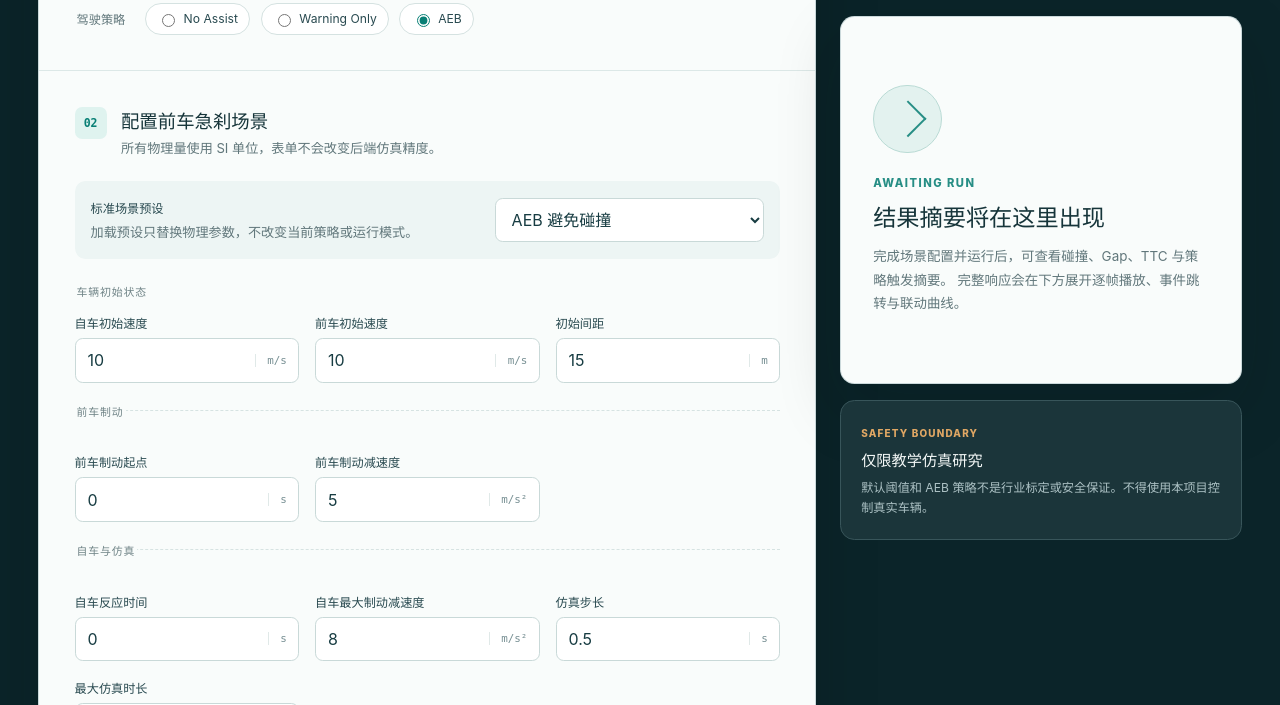
Dashboard configuration workflow › prevents duplicate submission while a request is pending and resets defaults
(page scrolled)
Replace the text in the number field labelled "初始间距" with "22". click: (653, 360)
box: x1=556 y1=339 x2=749 y2=382
(page scrolled)
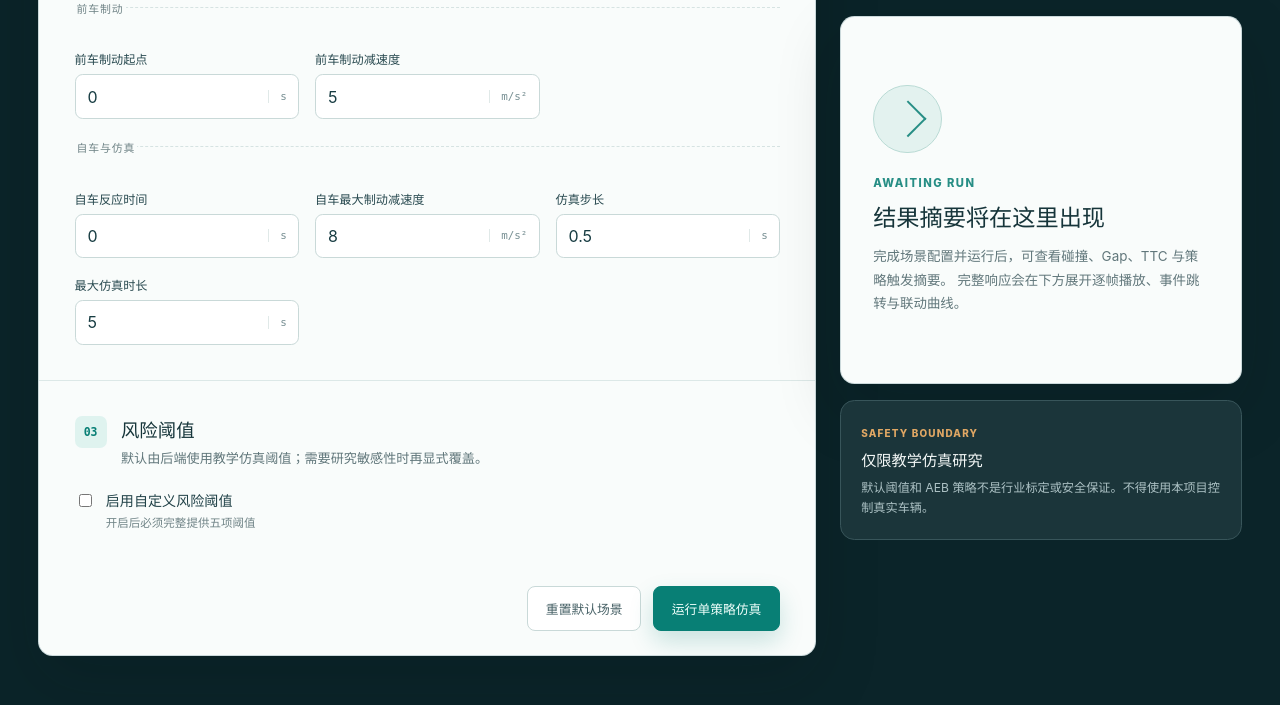
Click the button "运行单策略仿真". click: (717, 609)
box: x1=653 y1=586 x2=780 y2=631
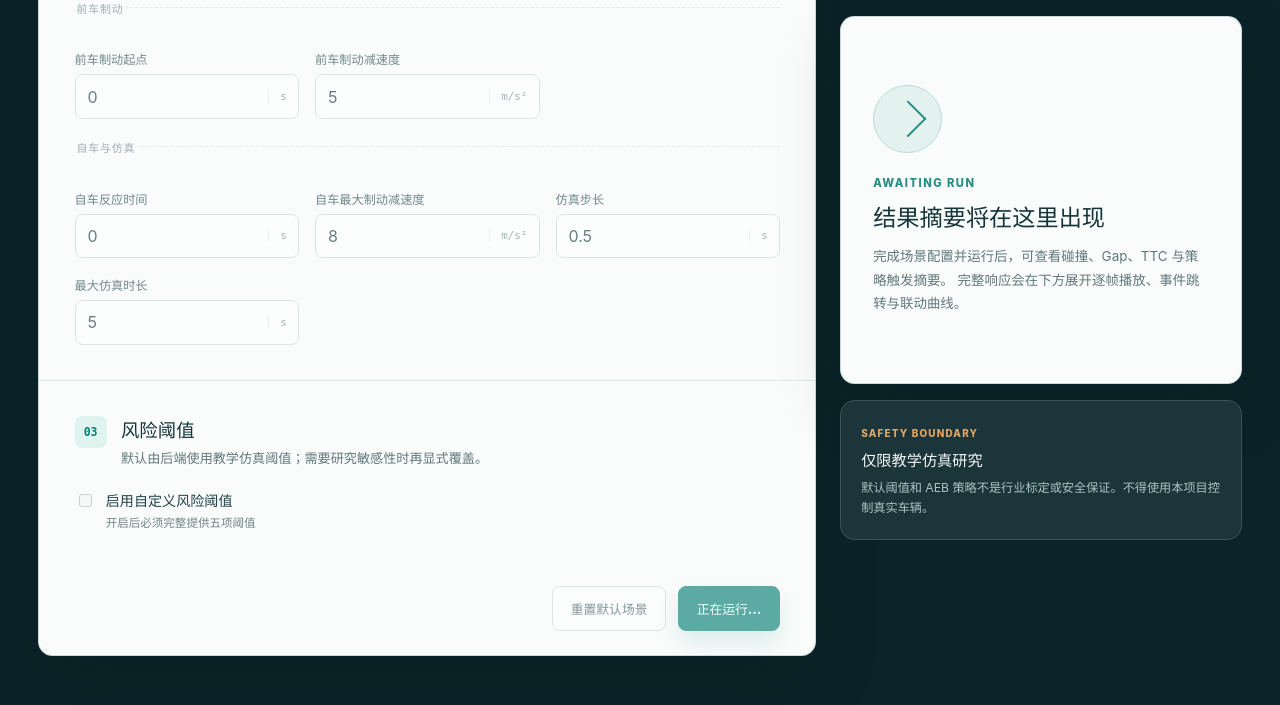
Expected: the button "正在运行…" is disabled
Click the button "正在运行…". click: (729, 609)
box: x1=678 y1=586 x2=780 y2=631
(page scrolled)
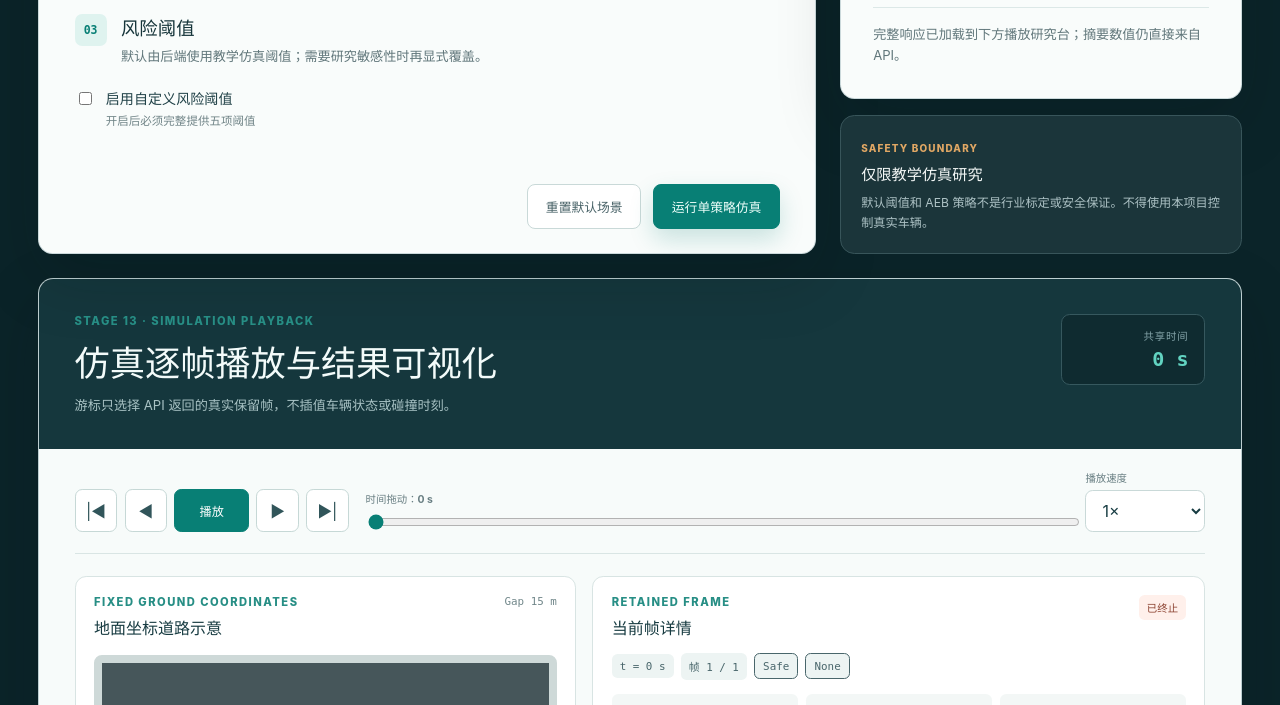
Click the button "重置默认场景". click: (584, 207)
box: x1=527 y1=184 x2=641 y2=229
(page scrolled)
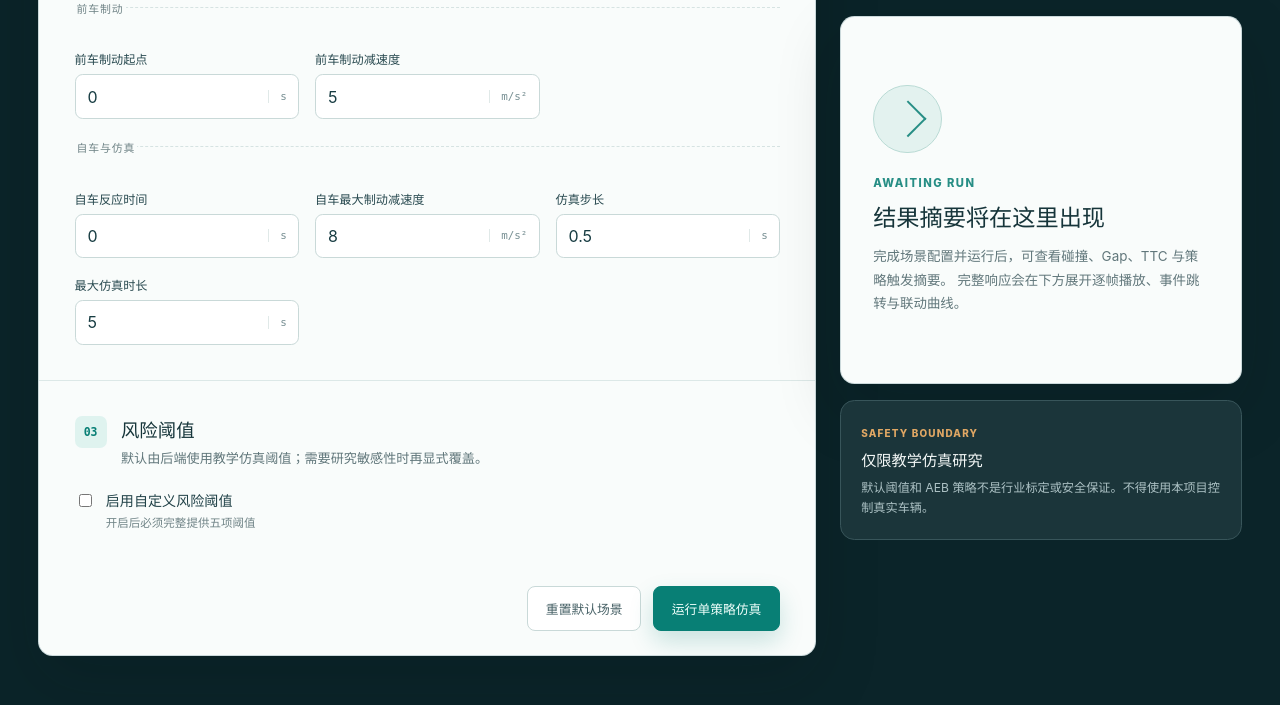
Expected: the heading "结果摘要将在这里出现" is shown, x1=873 y1=203 x2=1105 y2=231
